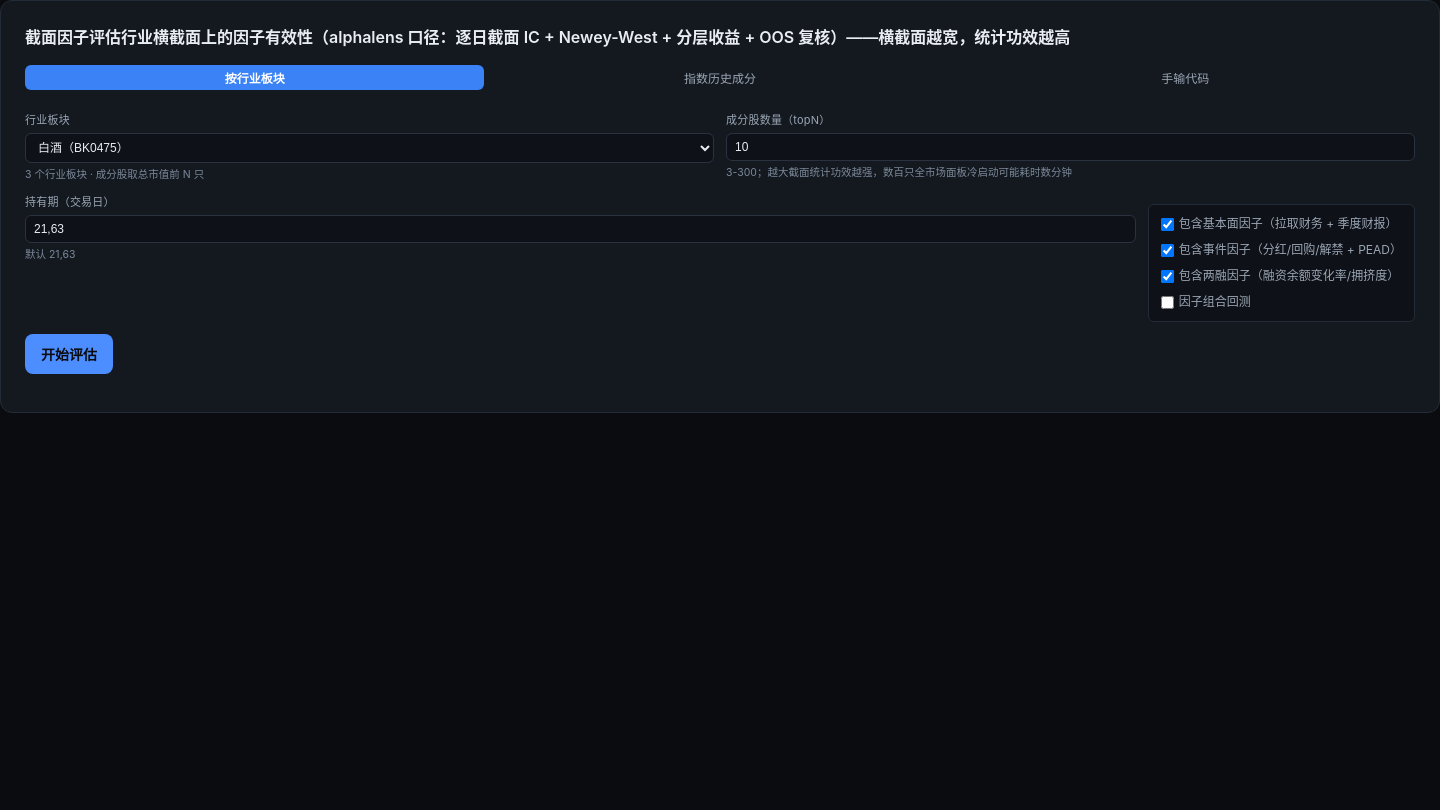
Test case: CrossSectionPanel —— 成功结果渲染 › 汇总行展示板块中文名、请求/入组/跳过数、因子数与持有期
What coordinates should you click on to do the following:
click the button "开始评估"
I would click on:
 (69, 354)
Its box is [25,334,113,374].
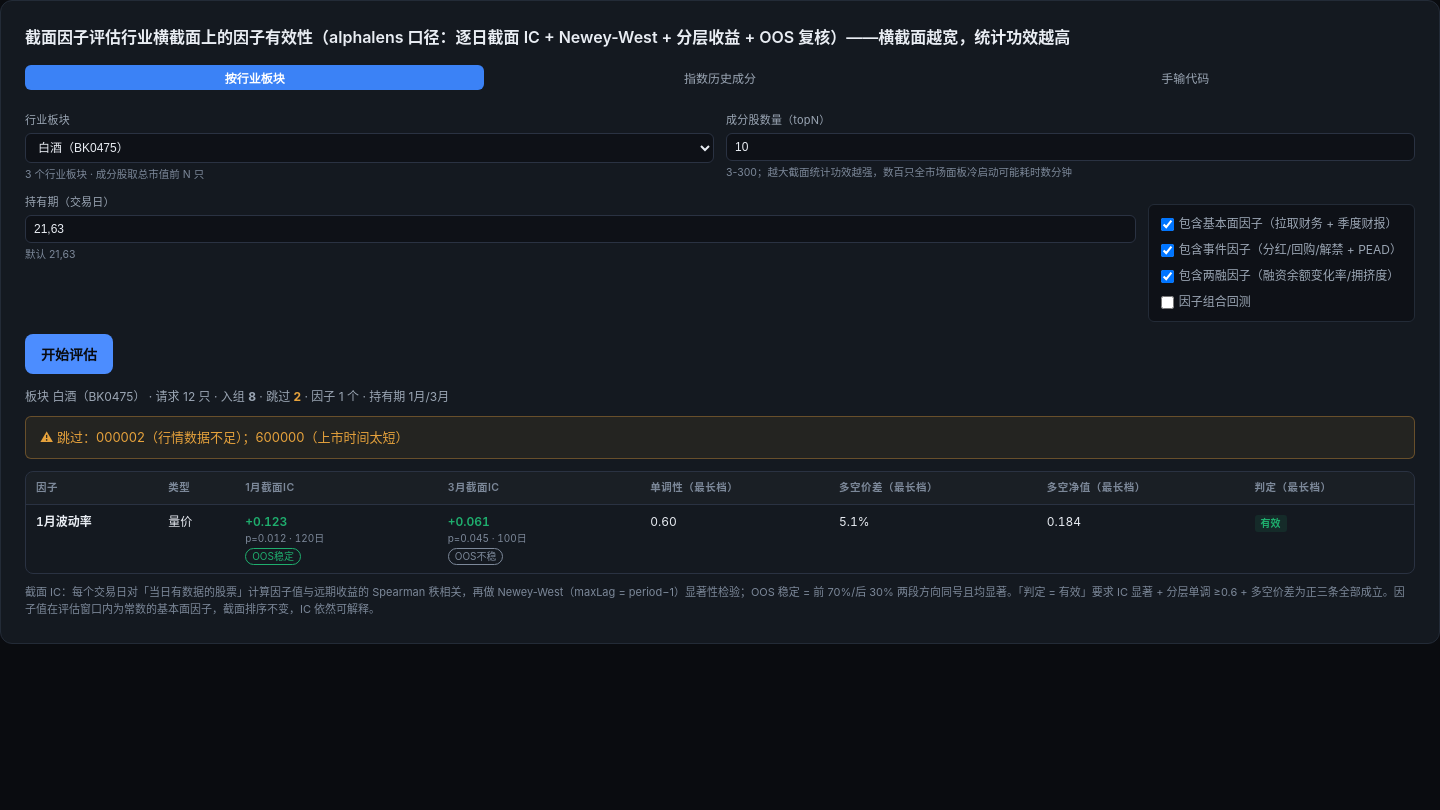
Check: the text "板块 白酒（BK0475） · 请求 12 只 · 入组 8 · 跳过 2 · 因子 1 个 · 持有期 1月/3月" is shown, box [25,389,449,404]
